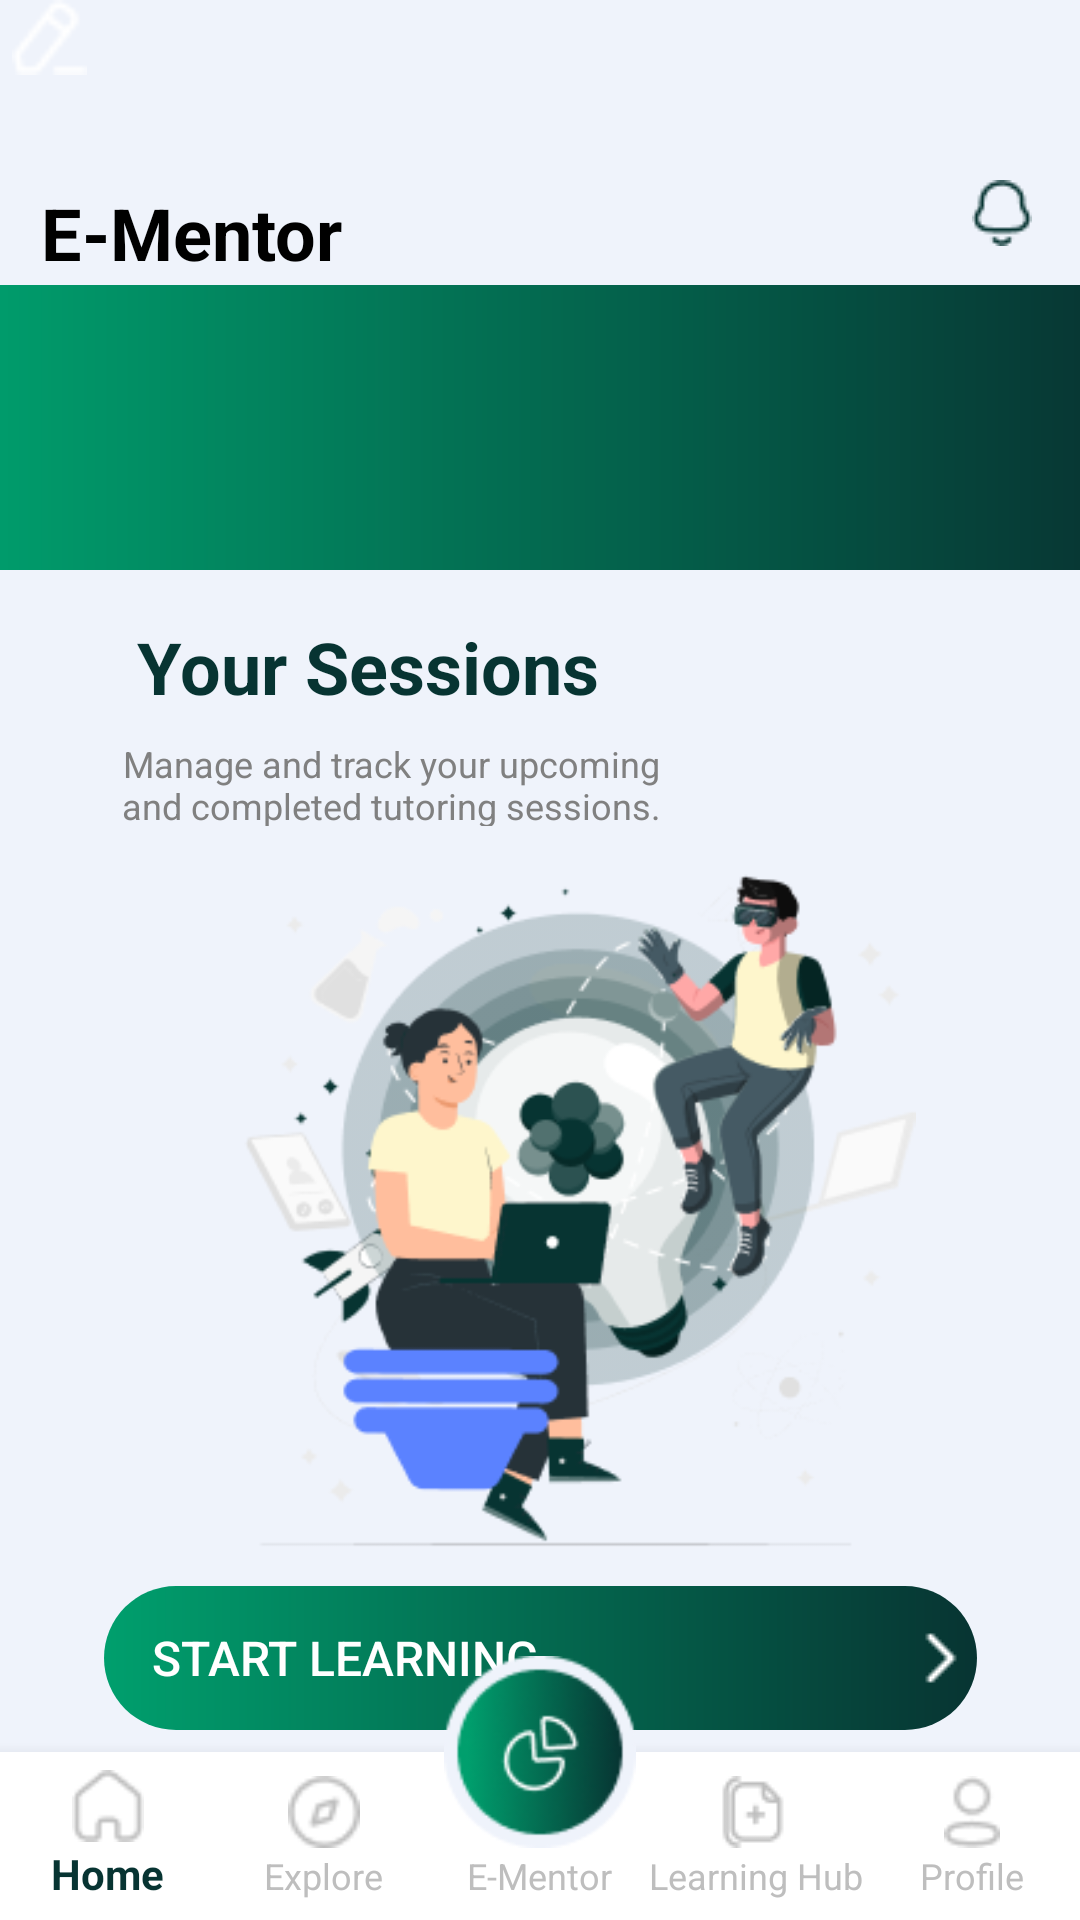

Where to tap for icons on this 1080 × 1920 app screen, as point (x, y):
notification: point (1002, 213)
